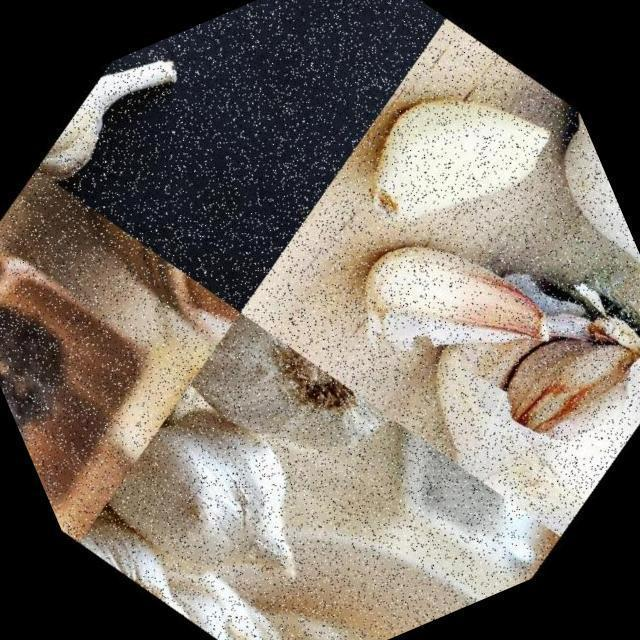garlic: (345, 192, 640, 576), (56, 338, 392, 640), (305, 161, 591, 457), (303, 17, 593, 302), (160, 271, 422, 549), (8, 37, 217, 220)
